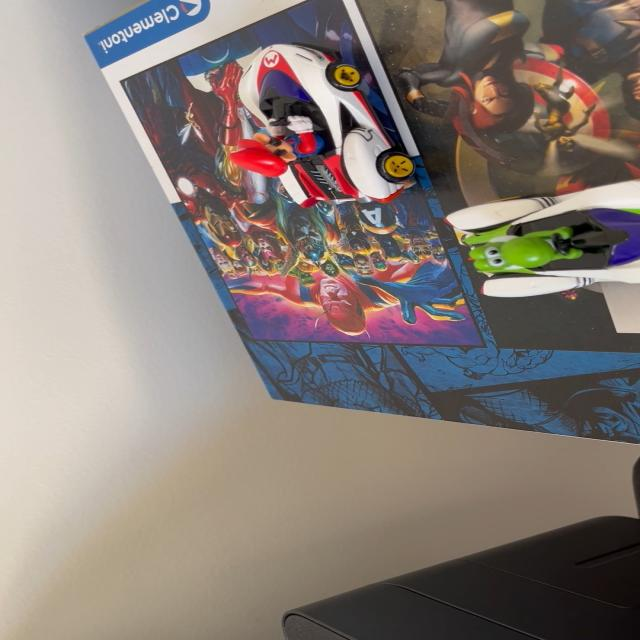mario: (213, 35, 432, 214)
yoshi: (448, 171, 640, 303)
